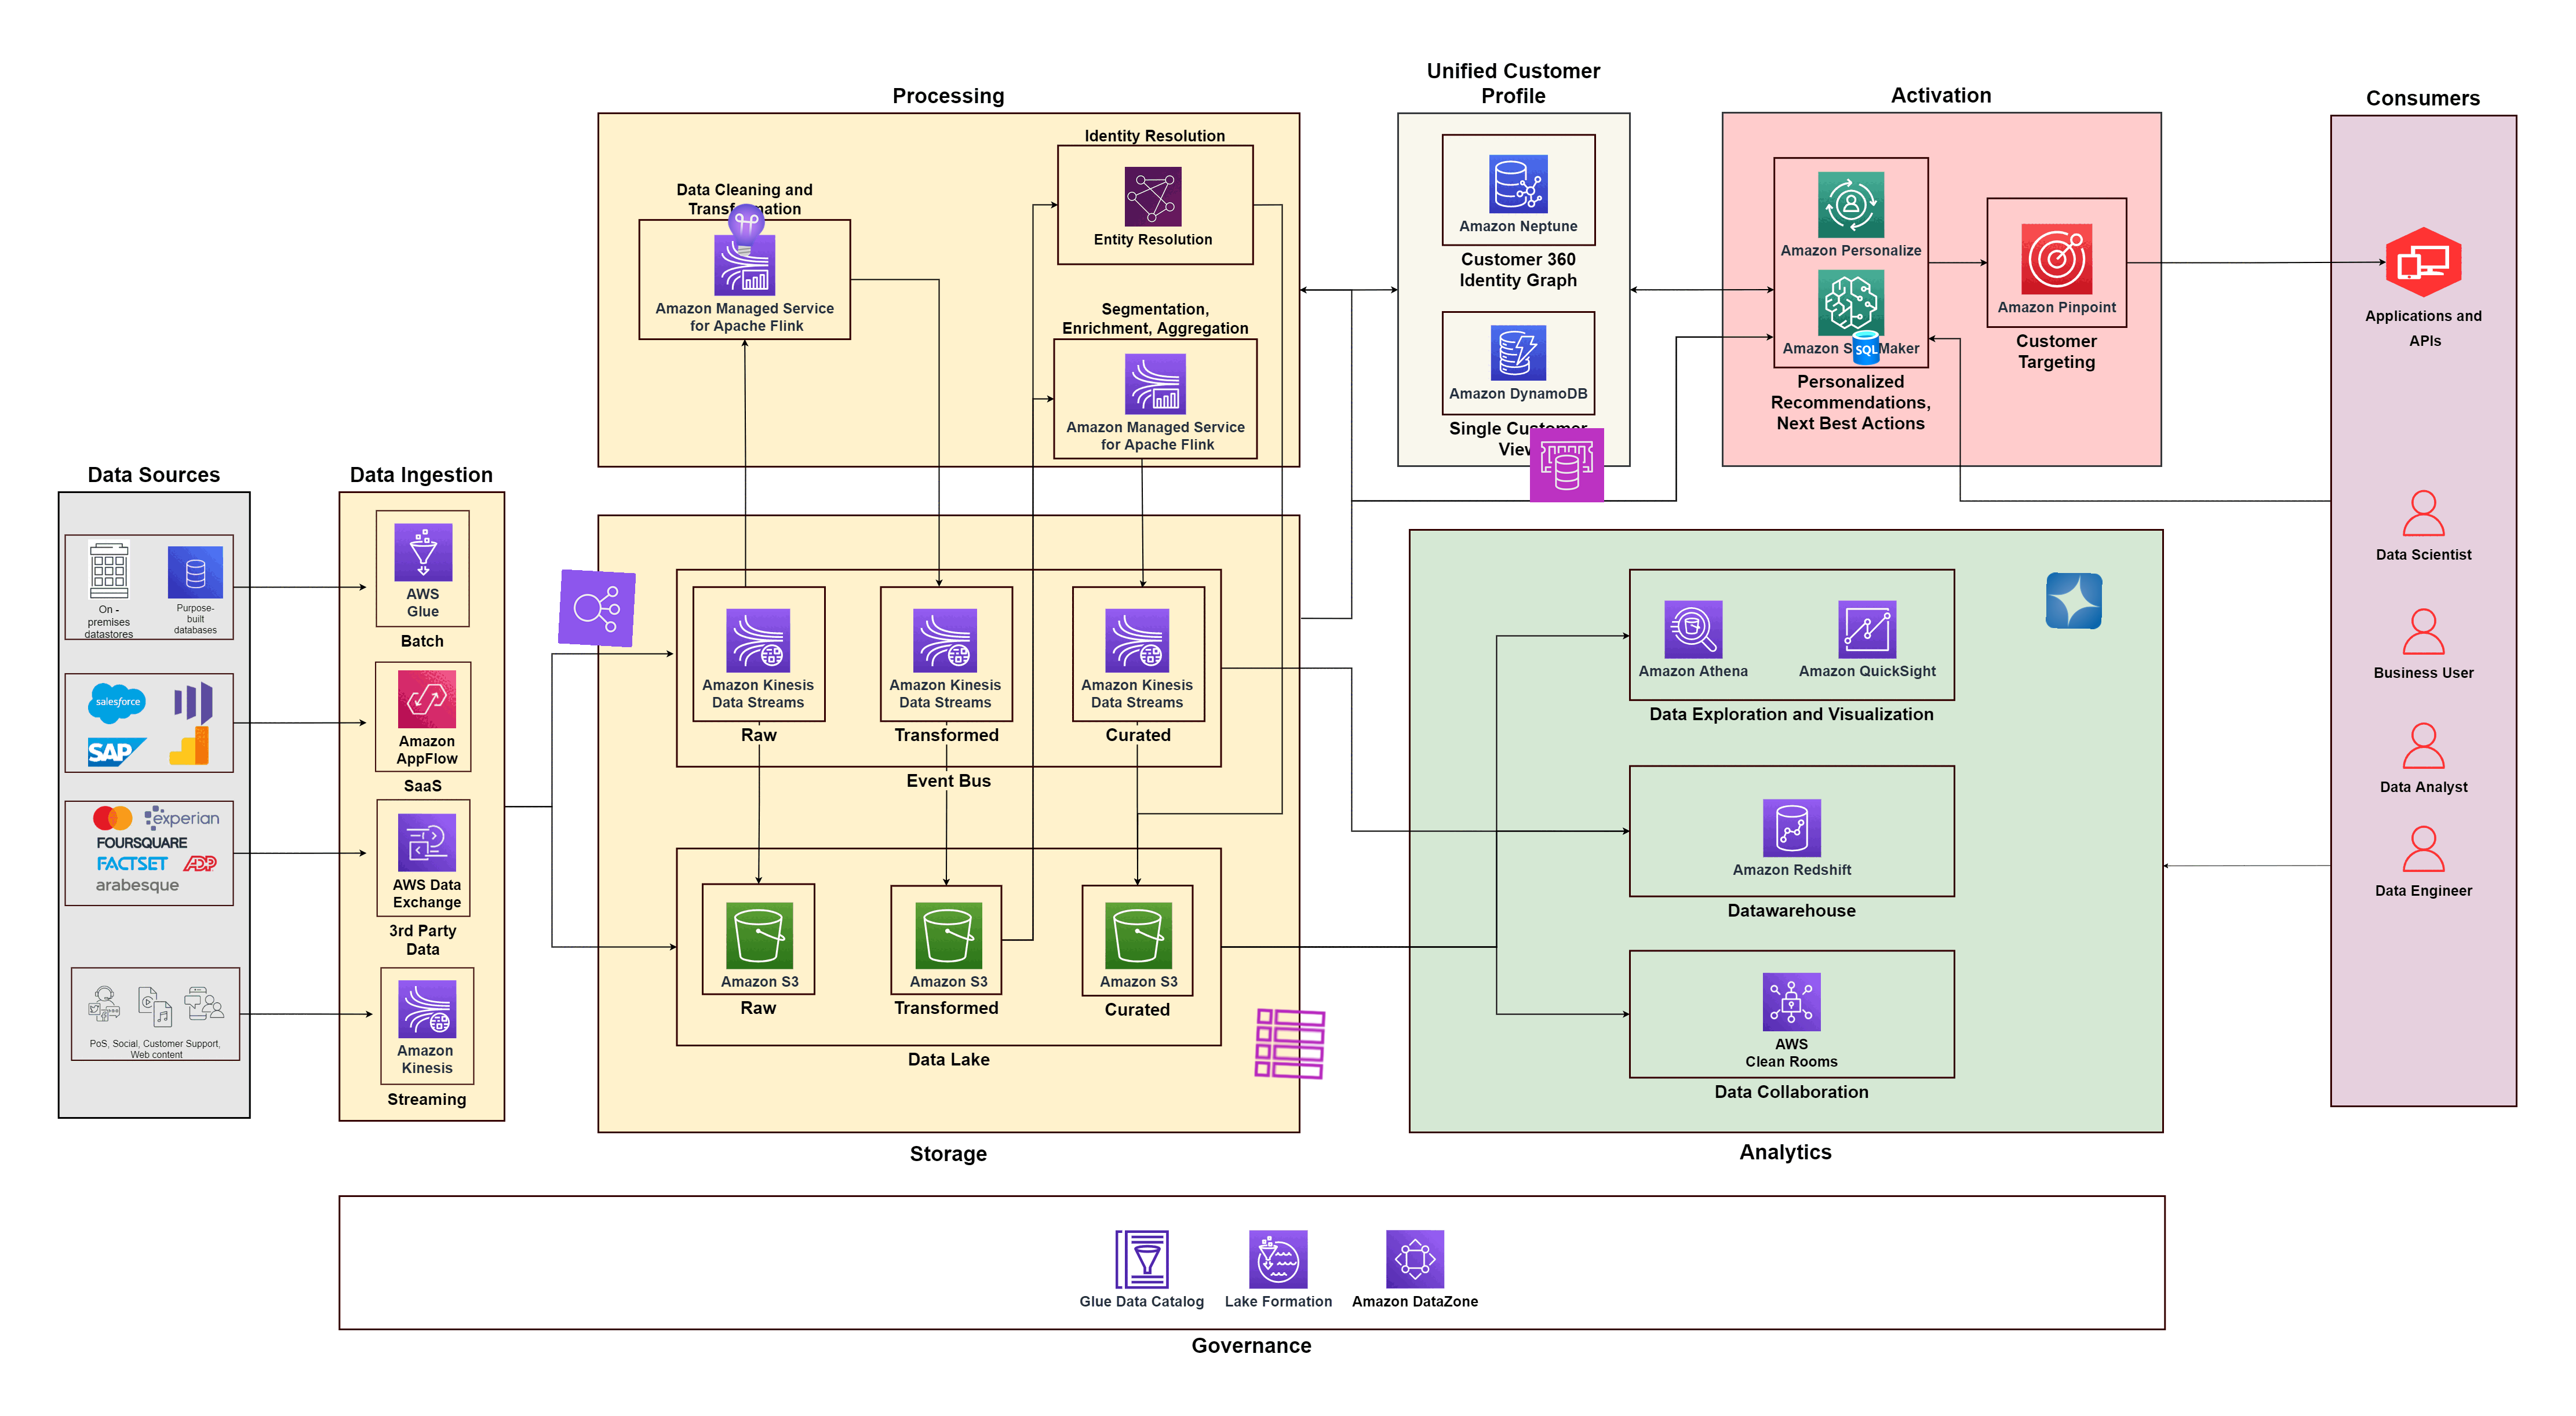aws_amazon_elasticache: (1530, 427, 1605, 502)
aws_dynamodb_table: (1251, 1004, 1329, 1083)
aws_elastic_load_balancing: (558, 568, 637, 647)
azure_application_insights: (715, 201, 776, 260)
azure_openai: (2046, 572, 2103, 630)
azure_sql_database: (1847, 328, 1885, 368)
